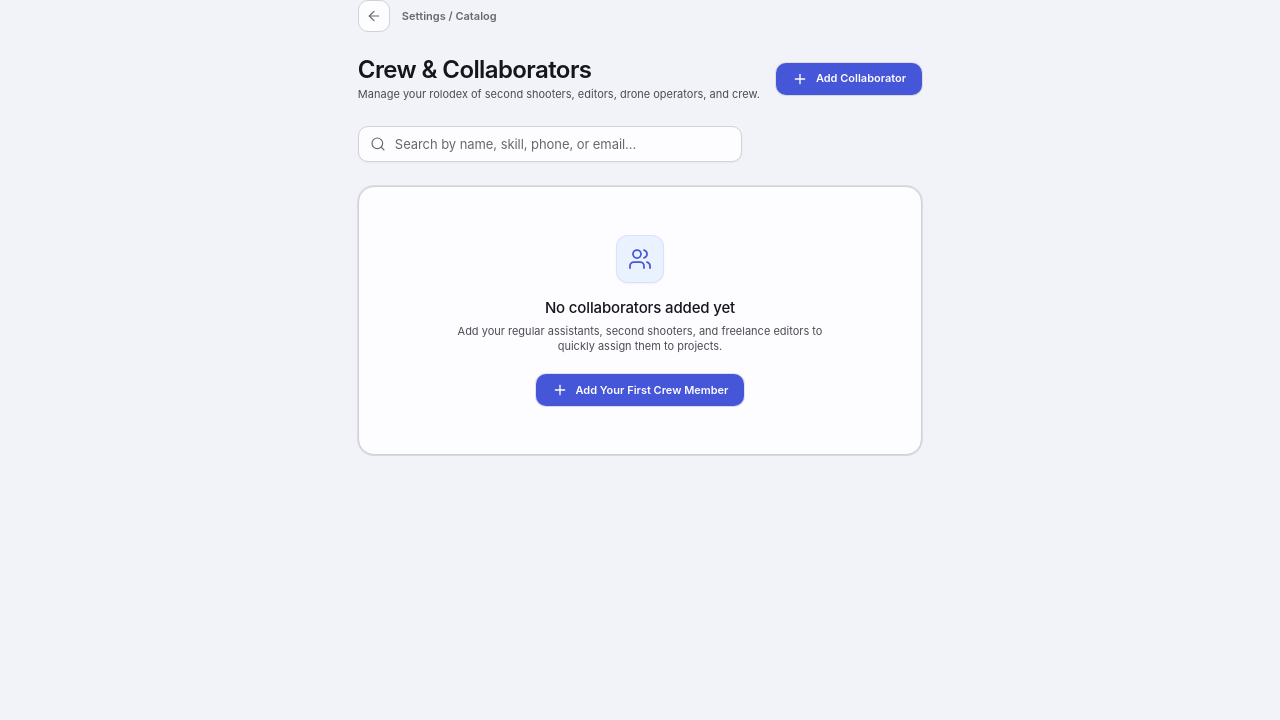
Test: CollaboratorsRoute & CollaboratorsList (STAB-P1-001) › renders empty state when no collaborators exist and allows opening create modal
expect the element with test id "collaborators-empty-state" is shown: met, box left=358, top=186, right=922, bottom=455
expect the heading "No collaborators added yet" is shown: met, box left=545, top=298, right=735, bottom=318
Click CTA to open modal
Step 1. Click the button with test id "empty-add-collaborator-btn" → x=640, y=390, box left=536, top=374, right=744, bottom=406
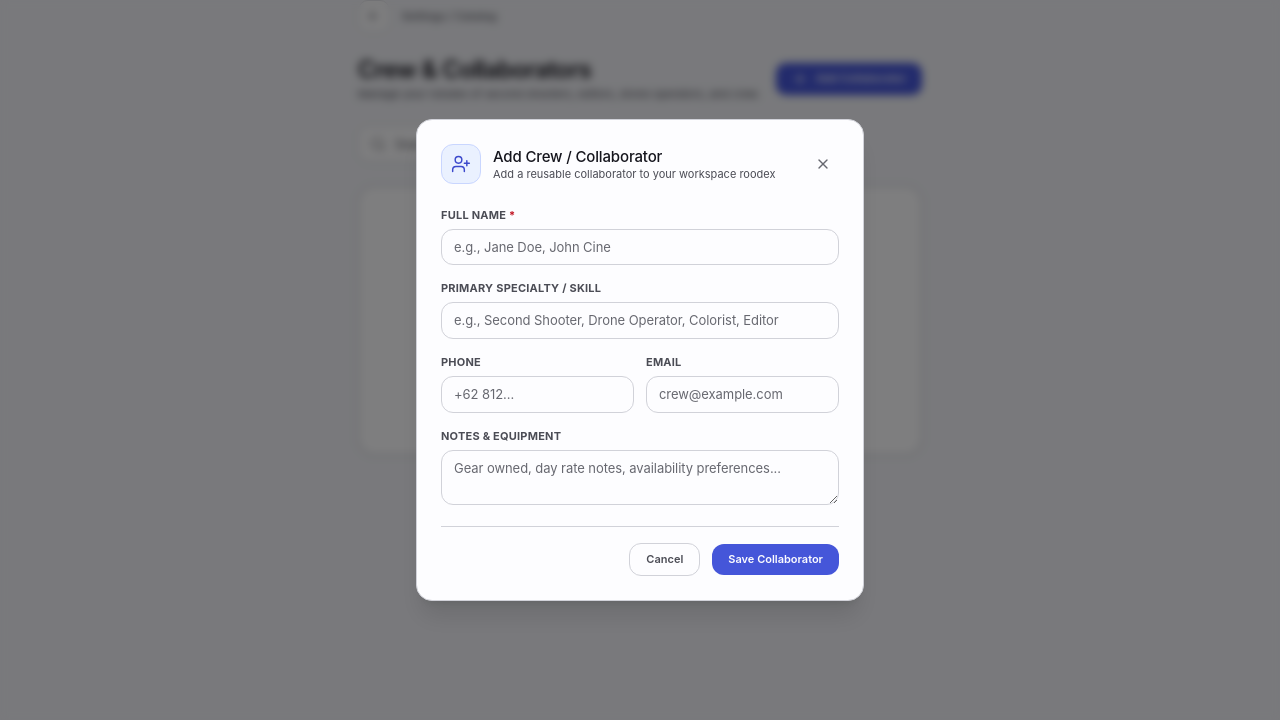
expect the field with test id "collaborator-name-input" is shown: met, box left=441, top=229, right=839, bottom=265
expect the field with test id "collaborator-specialty-input" is shown: met, box left=441, top=302, right=839, bottom=339
